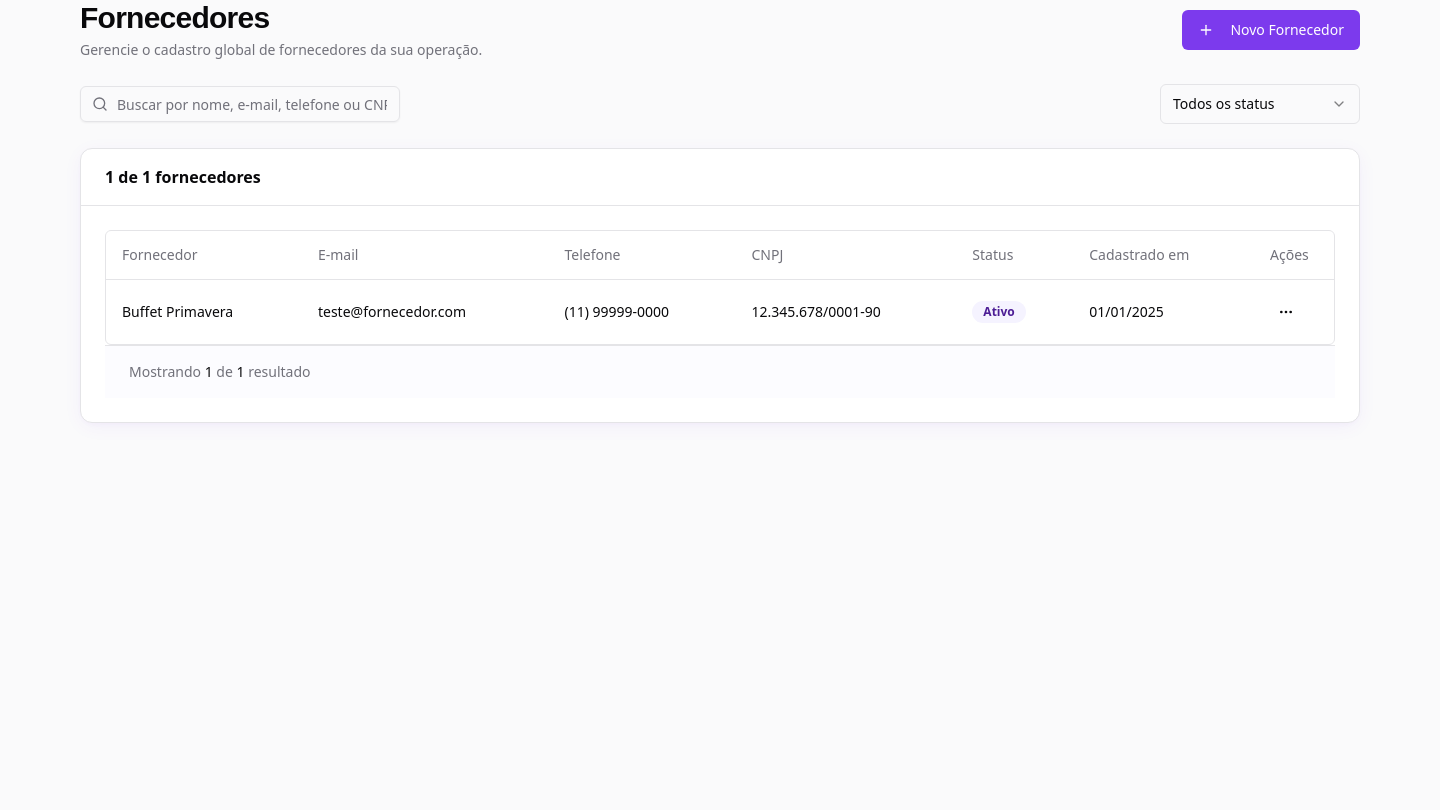
Scenario: SuppliersPage › opens the edit and delete dialogs from the row actions
This screenshot has width=1440, height=810.
Expected: the text "Buffet Primavera" is shown, [122, 302, 233, 322]
Click the 3rd button at (1286, 312), box [1270, 296, 1302, 328]
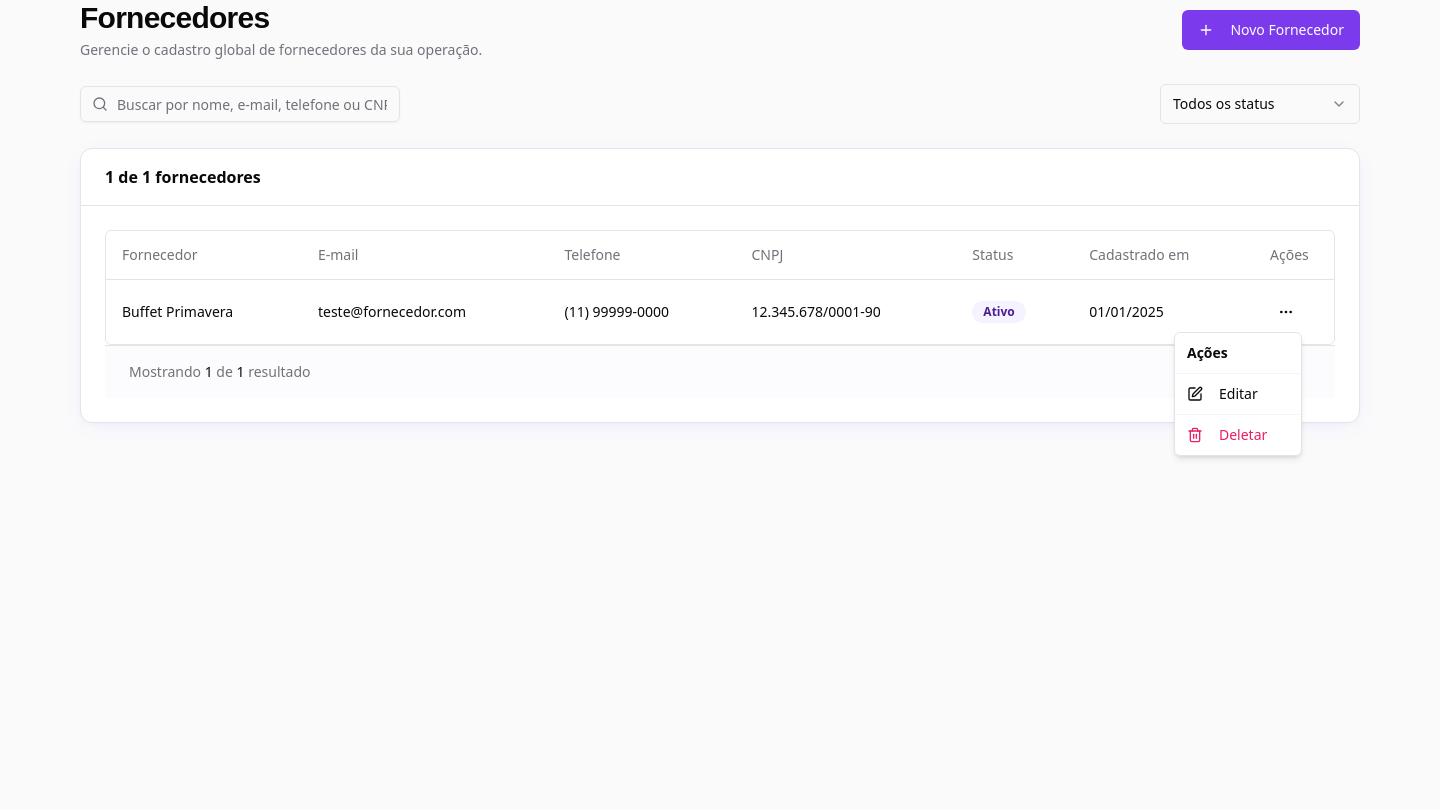
Click the menu item "Editar" at (1222, 394), box [1187, 384, 1258, 403]
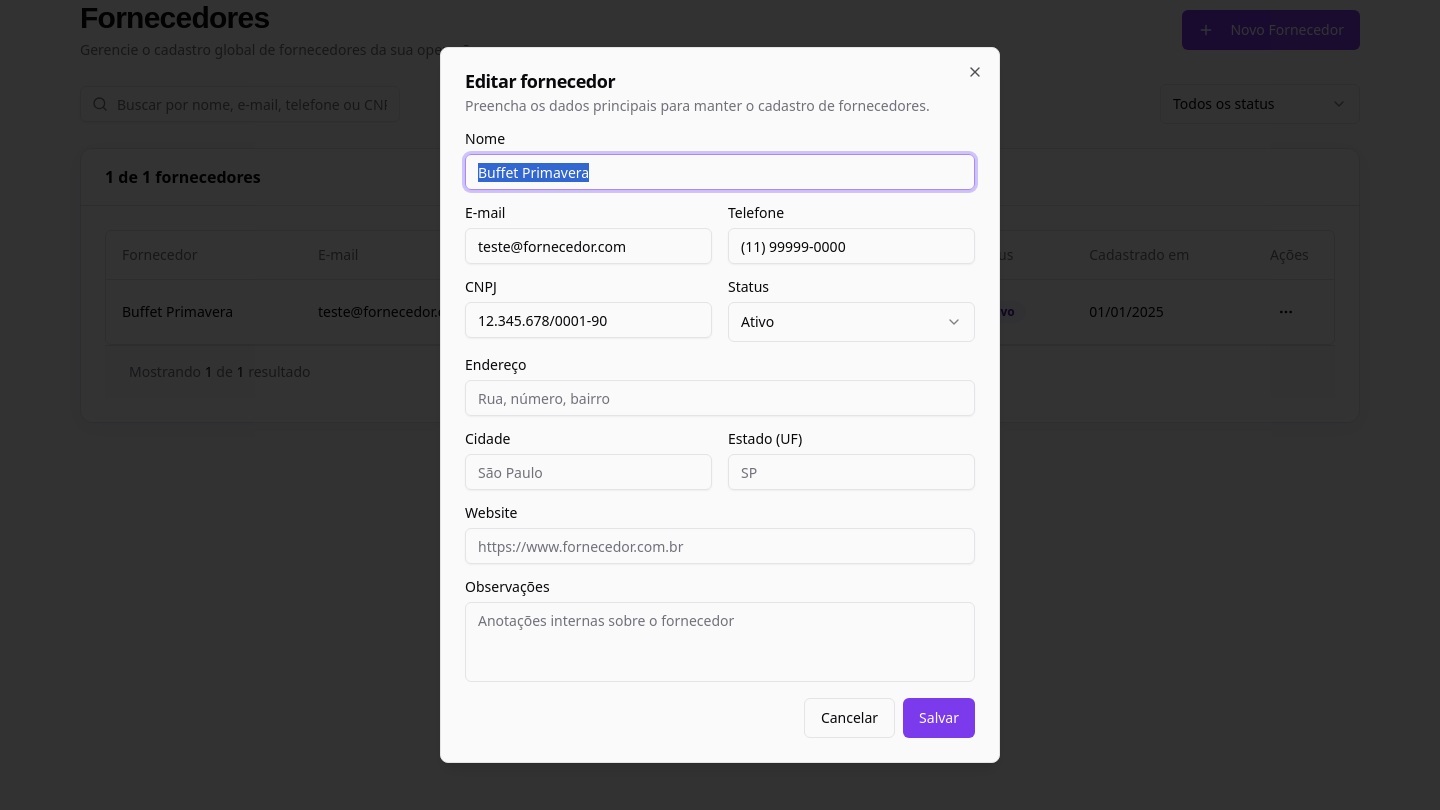
Expected: the heading "Editar fornecedor" is shown, [465, 69, 615, 93]
Click the button "Cancelar" at (850, 718), box [804, 698, 895, 738]
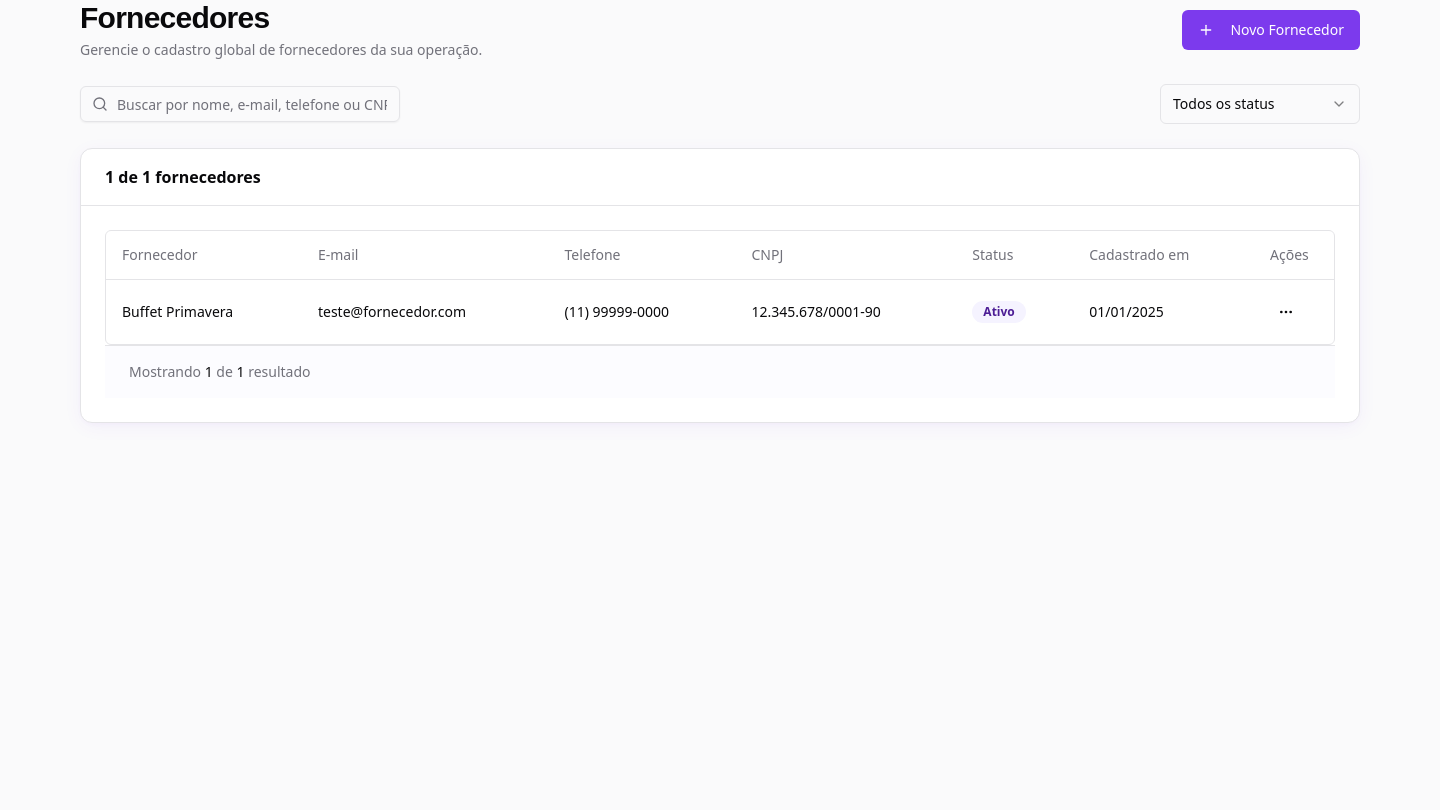
Click the 3rd button at (1286, 312), box [1270, 296, 1302, 328]
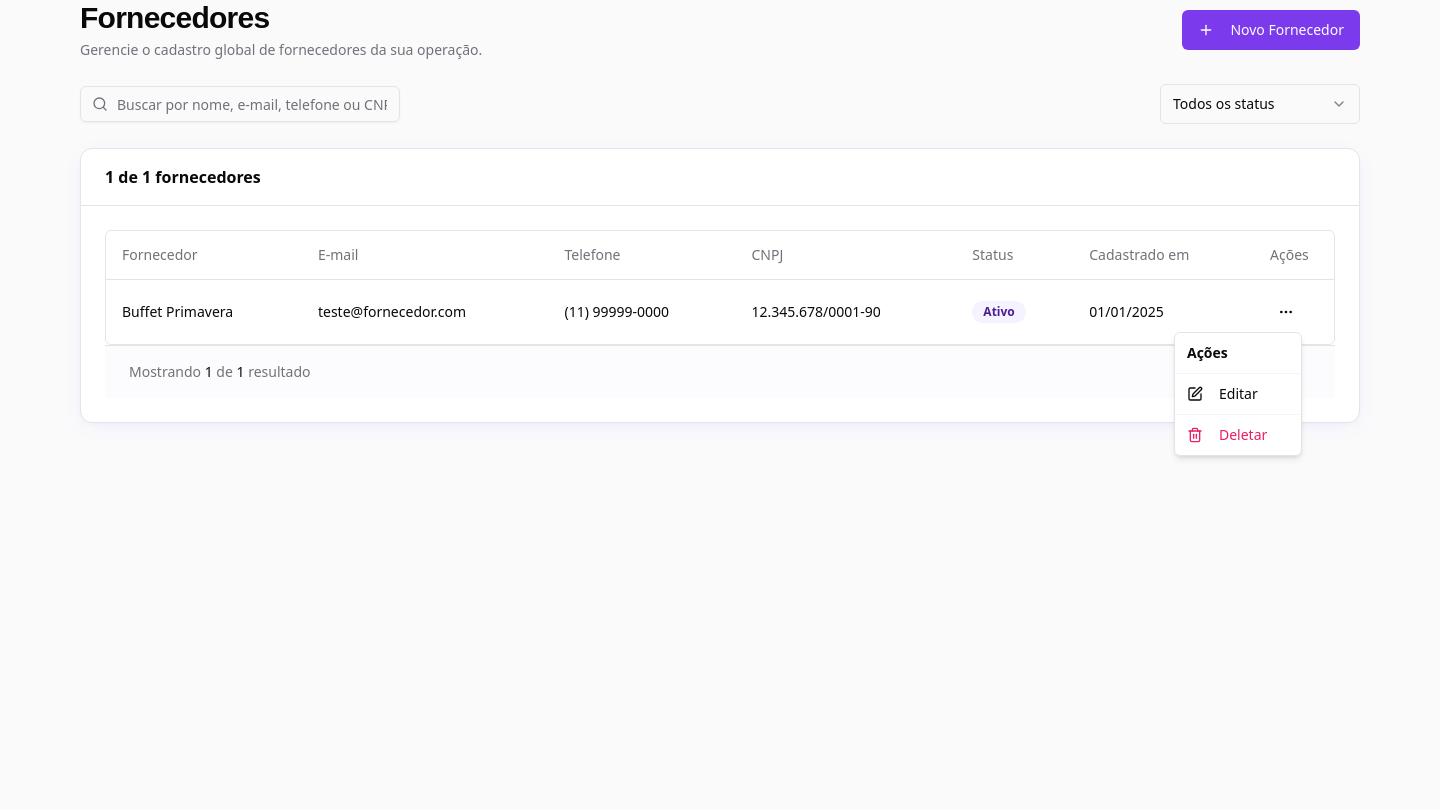
Click the menu item "Deletar" at (1227, 434), box [1187, 425, 1267, 444]
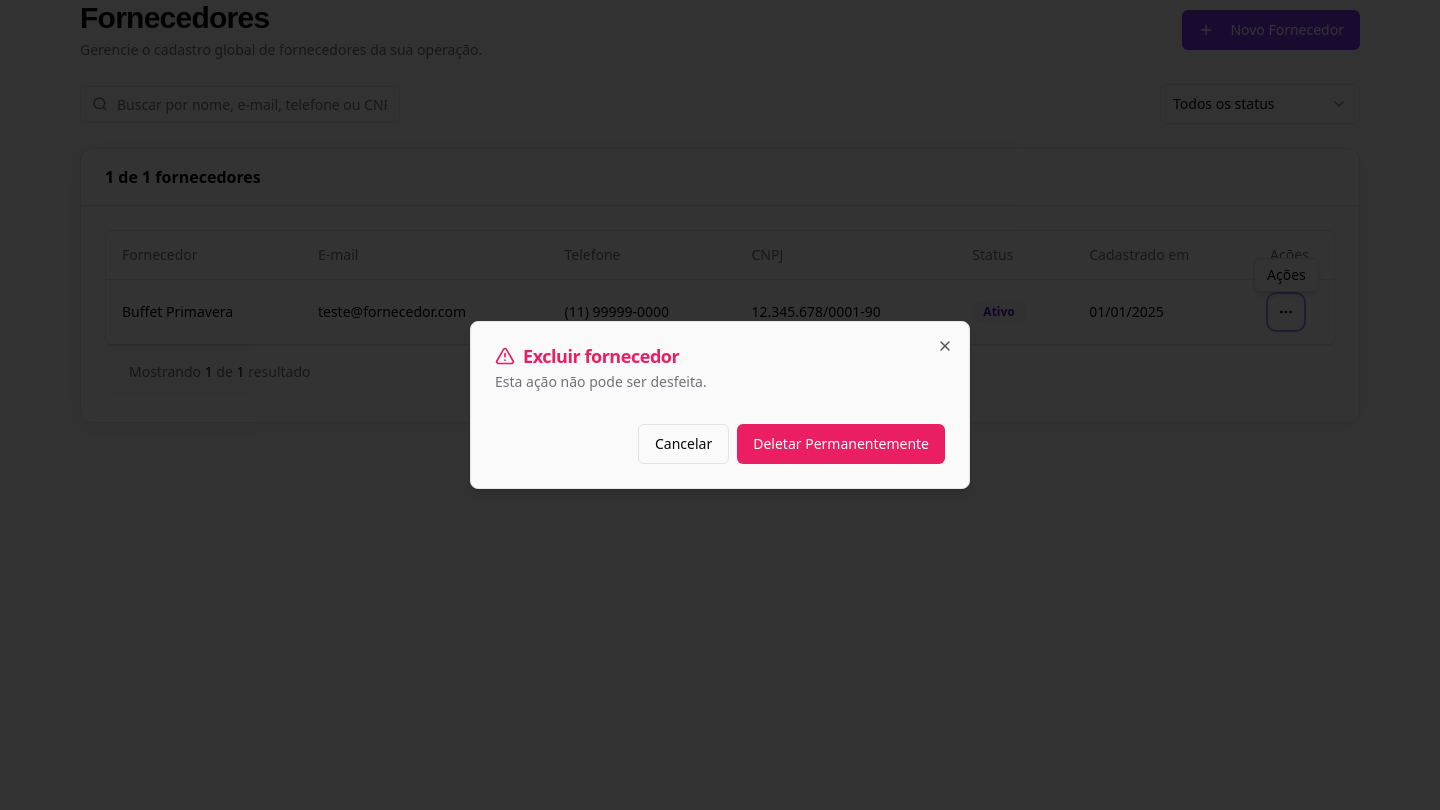
Expected: the heading "Excluir fornecedor" is shown, [495, 344, 679, 368]
Click the button "Cancelar" at (684, 444), box [638, 424, 729, 464]
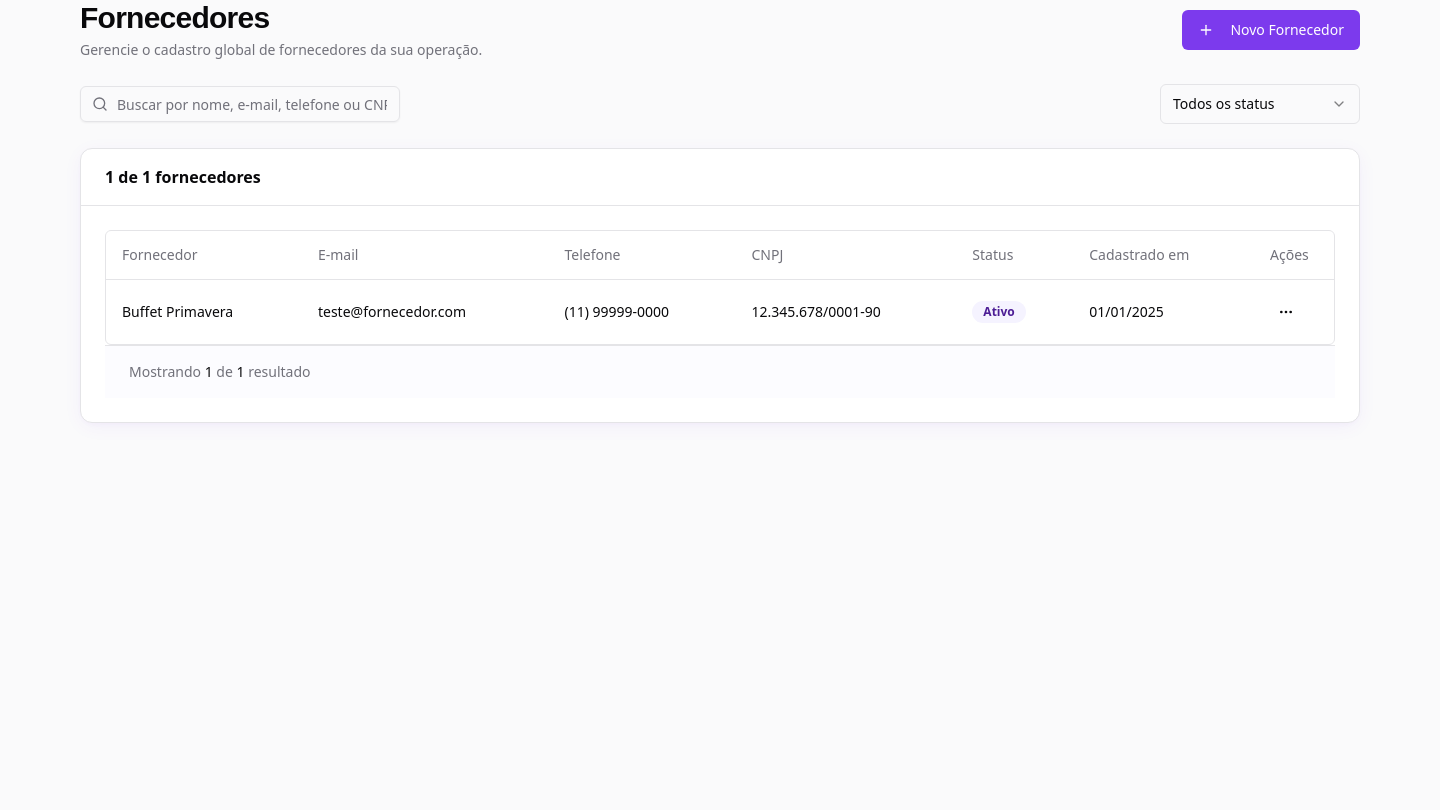
Expected: the heading "Excluir fornecedor" is gone
